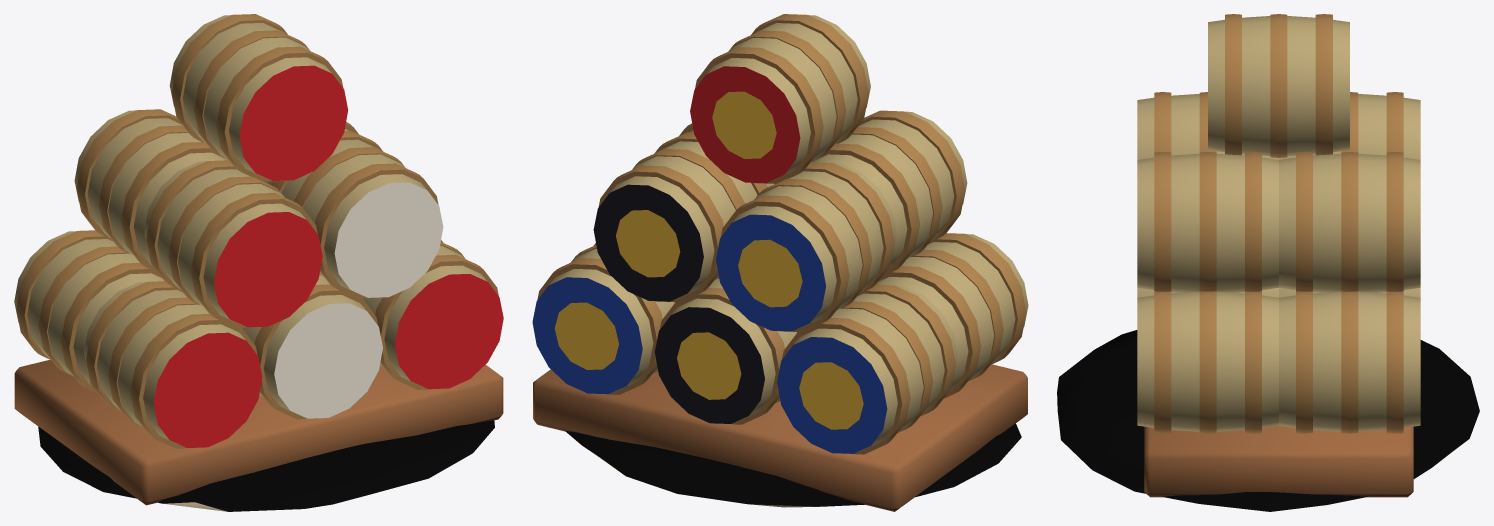
Rendered from SakeBarrels.fbx.
The picture shows the model from 3 angles, left to right: view 1: azimuth 30°, elevation 25°; view 2: azimuth 150°, elevation 25°; view 3: azimuth 270°, elevation 25°; orthographic projection.
Visible parts, largest first — view 1: SakeBarrels; view 2: SakeBarrels; view 3: SakeBarrels.
Boxes of the visible parts, x1,y1,x2,y2 form: SakeBarrels: (14,14,503,511); SakeBarrels: (532,14,1028,511); SakeBarrels: (1057,14,1479,511).
Size of the model in its own units: 1.71 by 1.51 by 1.49.
Materials: 1 (1 with a texture image).
